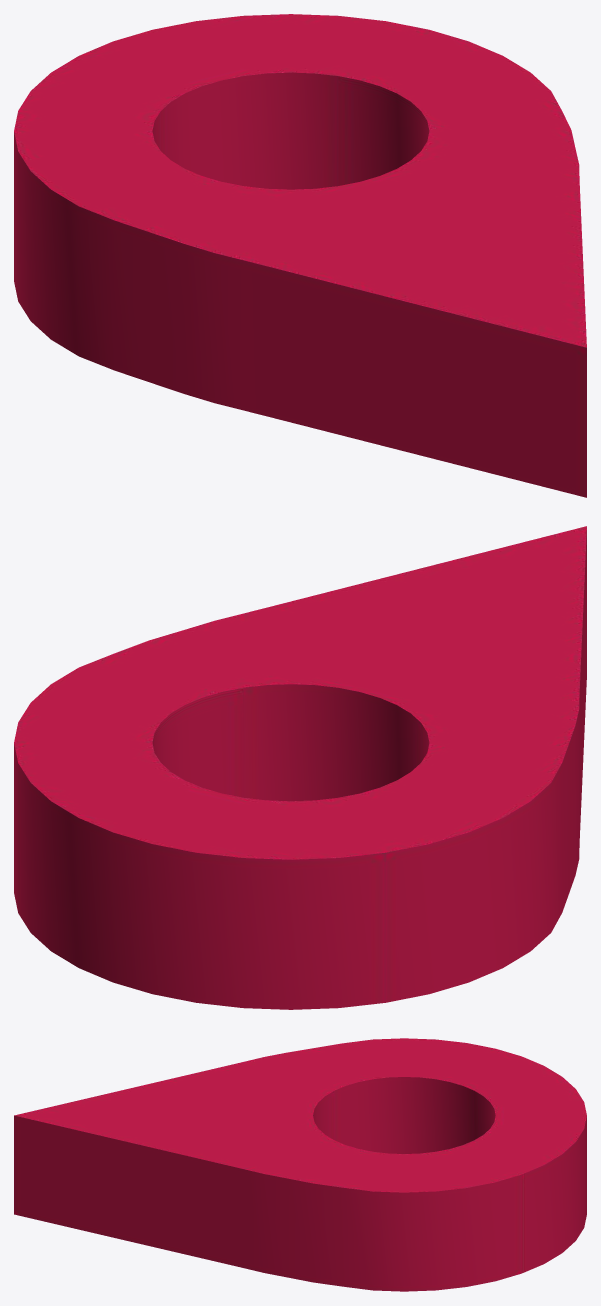
File: marker.glb
3 views of the same model, one above another, from view 1: azimuth 30°, elevation 25°; view 2: azimuth 150°, elevation 25°; view 3: azimuth 270°, elevation 25° (orthographic). The views are drawn at different scales.
Visible parts, largest first — view 1: pin_6_pin_6_0; view 2: pin_6_pin_6_0; view 3: pin_6_pin_6_0.
Part boxes in pixels (bbox=[...]): pin_6_pin_6_0: bbox=[14, 14, 586, 497]; pin_6_pin_6_0: bbox=[14, 526, 586, 1009]; pin_6_pin_6_0: bbox=[14, 1038, 586, 1291].
Bounding box in the file's own units: 0.0277 × 0.00828 × 0.0434.
Materials: 1 (1 with a texture image).
